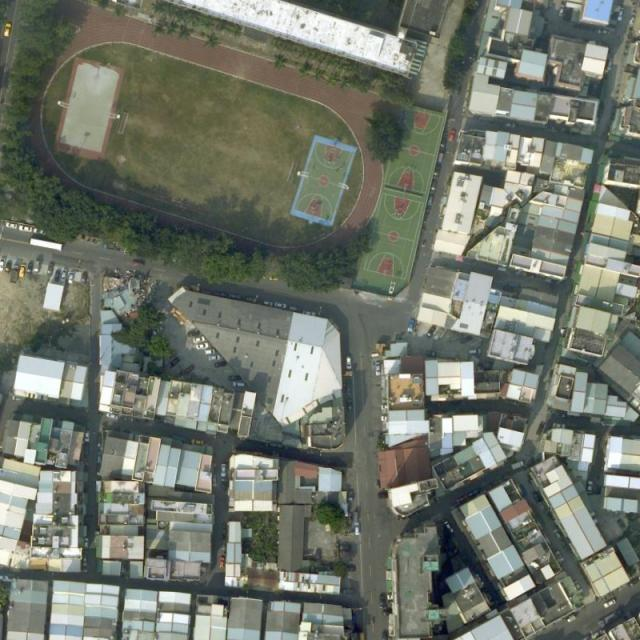vehicle: (29, 238, 62, 252), (426, 324, 438, 338), (625, 577, 640, 588), (616, 6, 626, 22), (603, 598, 617, 609), (511, 461, 526, 471), (406, 318, 416, 333), (244, 295, 260, 304), (554, 550, 566, 562), (532, 490, 543, 503), (448, 129, 458, 143), (374, 361, 382, 378), (3, 22, 11, 39), (19, 224, 34, 233), (459, 334, 471, 345), (574, 581, 584, 594), (5, 220, 18, 230), (501, 120, 517, 128), (47, 262, 55, 278), (80, 271, 88, 287), (424, 349, 438, 358), (274, 301, 288, 310), (382, 606, 394, 616), (169, 357, 181, 367), (214, 290, 229, 298), (61, 270, 69, 285), (12, 266, 19, 283), (557, 5, 566, 18), (433, 164, 442, 177), (438, 151, 446, 165), (596, 27, 610, 35), (606, 58, 614, 72), (26, 261, 34, 275), (194, 335, 206, 344), (34, 228, 46, 237), (346, 355, 353, 370), (469, 348, 484, 355), (33, 259, 40, 274), (19, 263, 26, 278), (68, 271, 75, 286), (203, 347, 216, 355), (229, 374, 242, 382), (229, 293, 242, 301), (346, 378, 352, 395), (379, 594, 386, 608), (354, 521, 361, 535), (554, 528, 562, 540), (496, 266, 508, 274), (209, 354, 222, 361), (197, 342, 210, 349), (188, 330, 201, 337), (587, 481, 594, 494), (53, 269, 60, 282), (219, 555, 226, 568), (106, 413, 119, 420), (221, 463, 227, 478), (302, 310, 317, 316), (430, 181, 438, 192), (263, 299, 274, 307), (566, 615, 577, 623), (315, 549, 322, 561), (427, 194, 434, 206), (83, 444, 89, 458), (83, 554, 89, 568), (192, 439, 204, 446), (214, 361, 226, 368), (346, 400, 353, 412), (85, 431, 91, 444), (233, 382, 246, 388), (1, 258, 6, 273), (83, 538, 90, 548), (6, 260, 11, 274), (581, 634, 592, 640), (382, 630, 388, 640), (349, 490, 354, 502), (338, 546, 350, 551), (445, 521, 451, 530)
